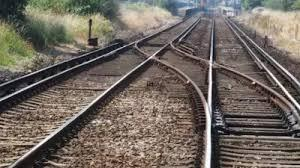track: (0, 12, 206, 168), (135, 11, 300, 168), (202, 9, 300, 168), (202, 11, 299, 168)
